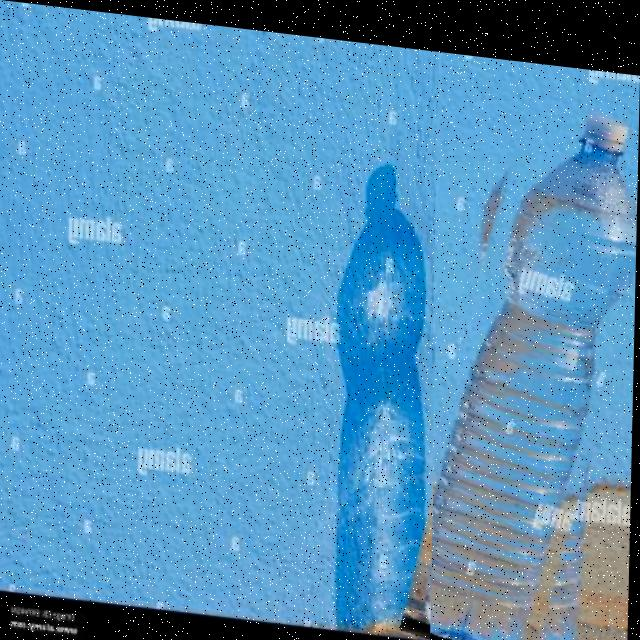litter: (432, 64, 640, 640), (501, 78, 612, 152)
